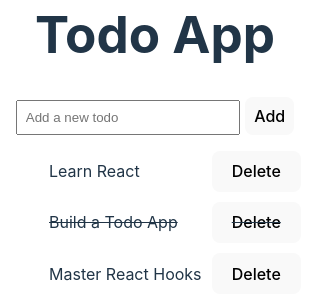
Test: TodoApp Component › should delete a todo item when the "Delete" button is clicked
Expected: the text "Learn React" is shown, [49,159,140,183]
Click the button "Delete" next to "Learn React". click: point(256, 171)
box: [212,151,301,192]
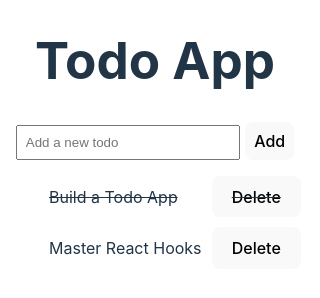
Expected: the text "Learn React" is gone
